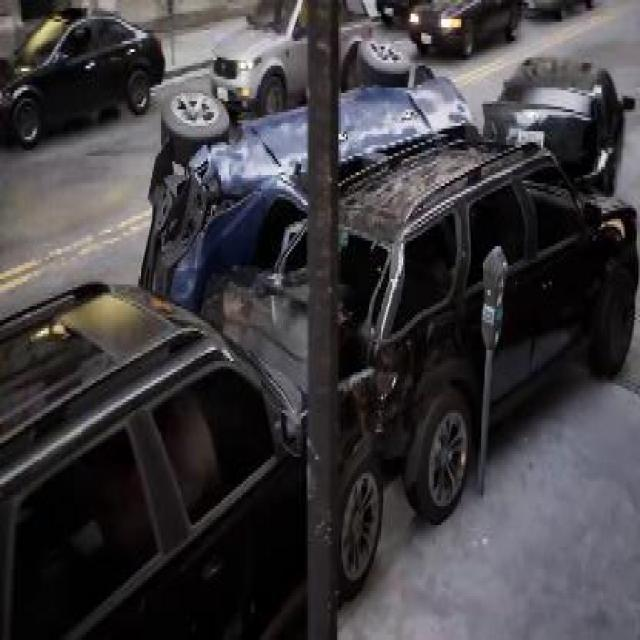accident: (0, 210, 638, 637), (139, 22, 639, 520)
